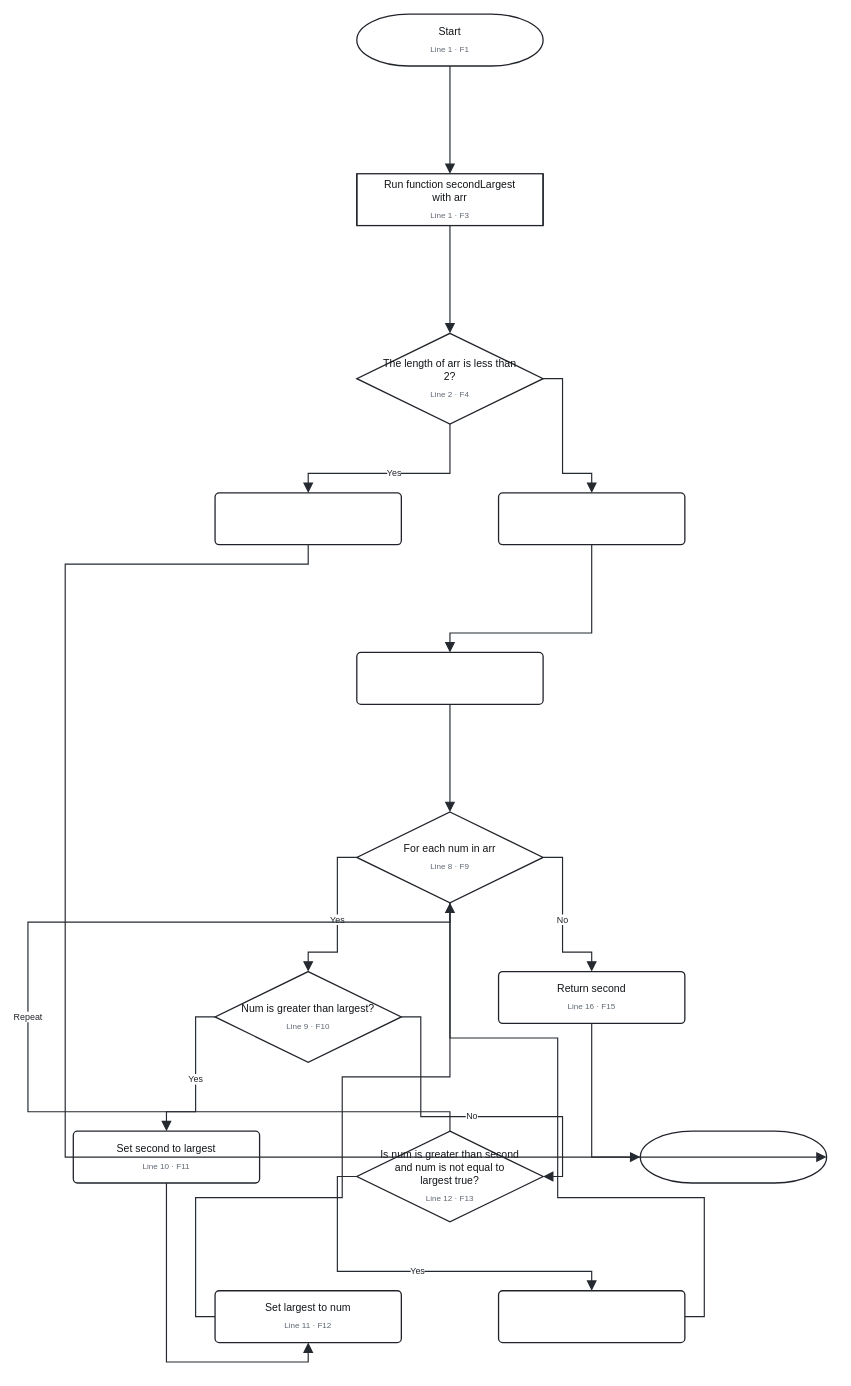
Some shapes in this 851 by 1386 pixel diagram are drawn without their labels. Here are the shapes that lost their labels. From the top down, the box of each, then its label:
(214, 492, 402, 545): Return NULL Line 3 · F5
(498, 492, 685, 545): Set largest to the result of negative_infinity() Line 6 · F7
(356, 651, 543, 705): Set second to the result of negative_infinity() Line 7 · F8
(639, 1130, 827, 1183): End Line 1 · F2
(498, 1290, 685, 1343): Set second to num Line 13 · F14
